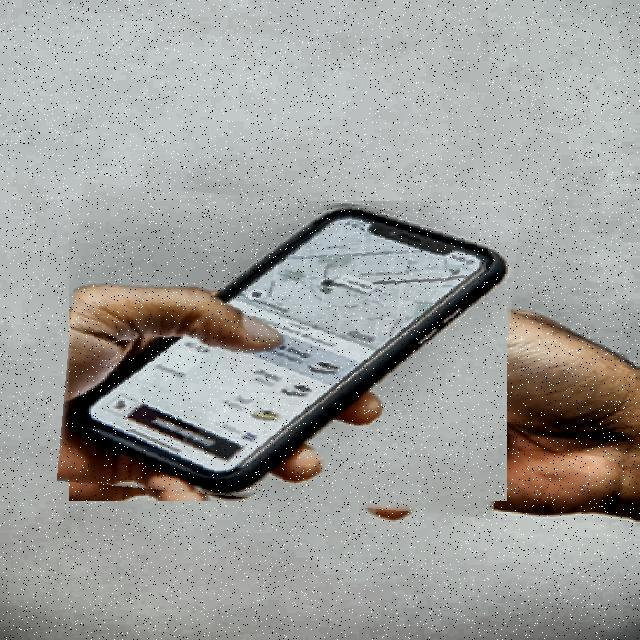Phone: (63, 192, 513, 510)
